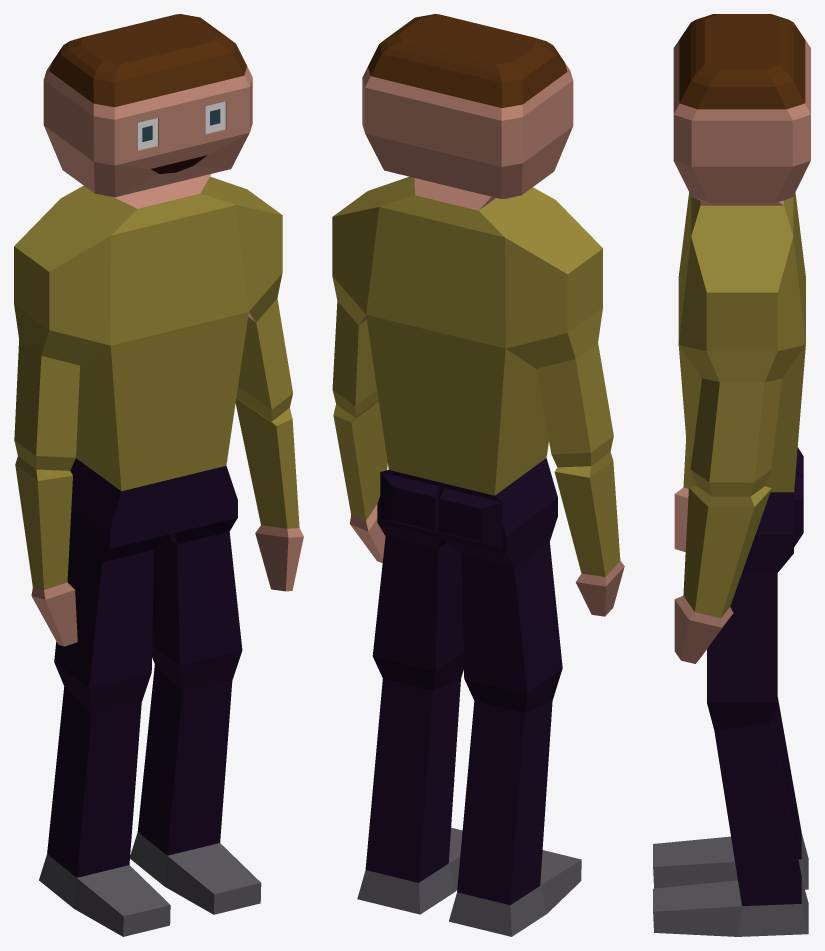
File: Bystander2.fbx
3 views of the same model, side by side, from view 1: azimuth 30°, elevation 25°; view 2: azimuth 150°, elevation 25°; view 3: azimuth 270°, elevation 25° (orthographic).
Visible parts, largest first — view 1: Cube; view 2: Cube; view 3: Cube.
Boxes of the visible parts, bbox=[...] form: Cube: bbox=[14, 14, 303, 936]; Cube: bbox=[332, 14, 624, 936]; Cube: bbox=[653, 14, 810, 936].
Size of the model in its own units: 285 by 895 by 149.
